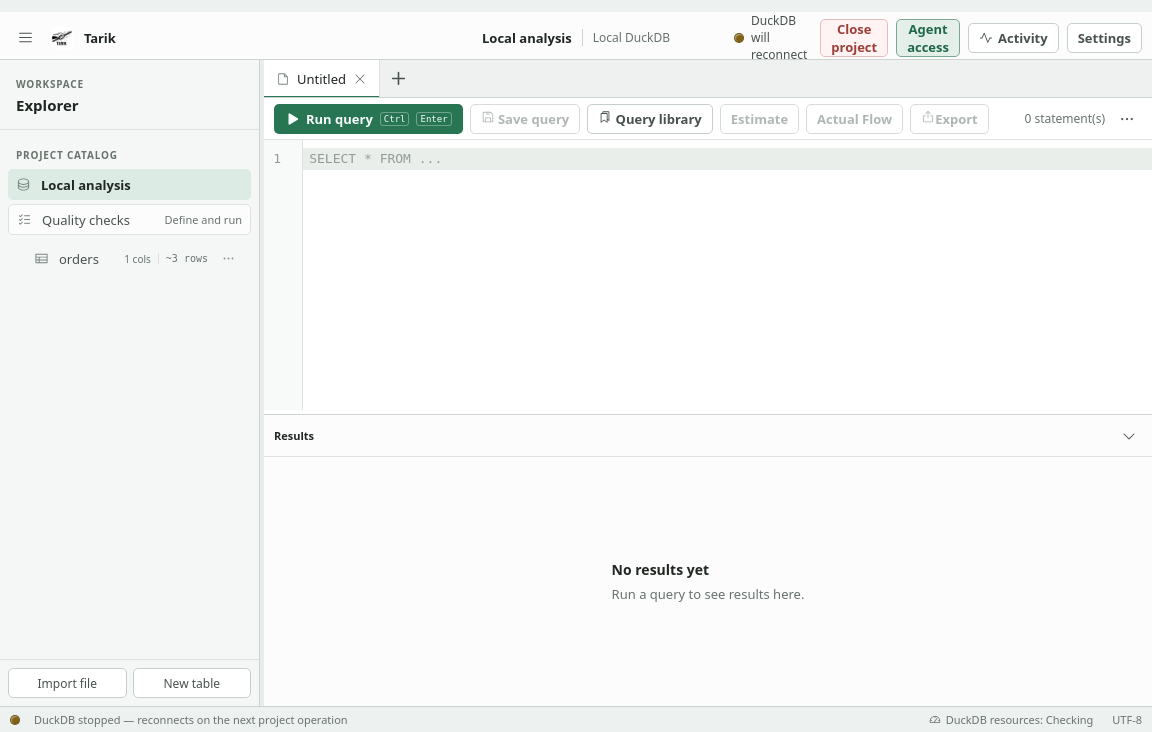
Test: Tarik workbench shell › opens Profile from supported Explorer menu and keyboard actions without scanning
The width and height of the screenshot is (1152, 732).
Step 1. Press the mouse on the button named "orders table actions" → (228, 258), box 215,246 -> 241,272
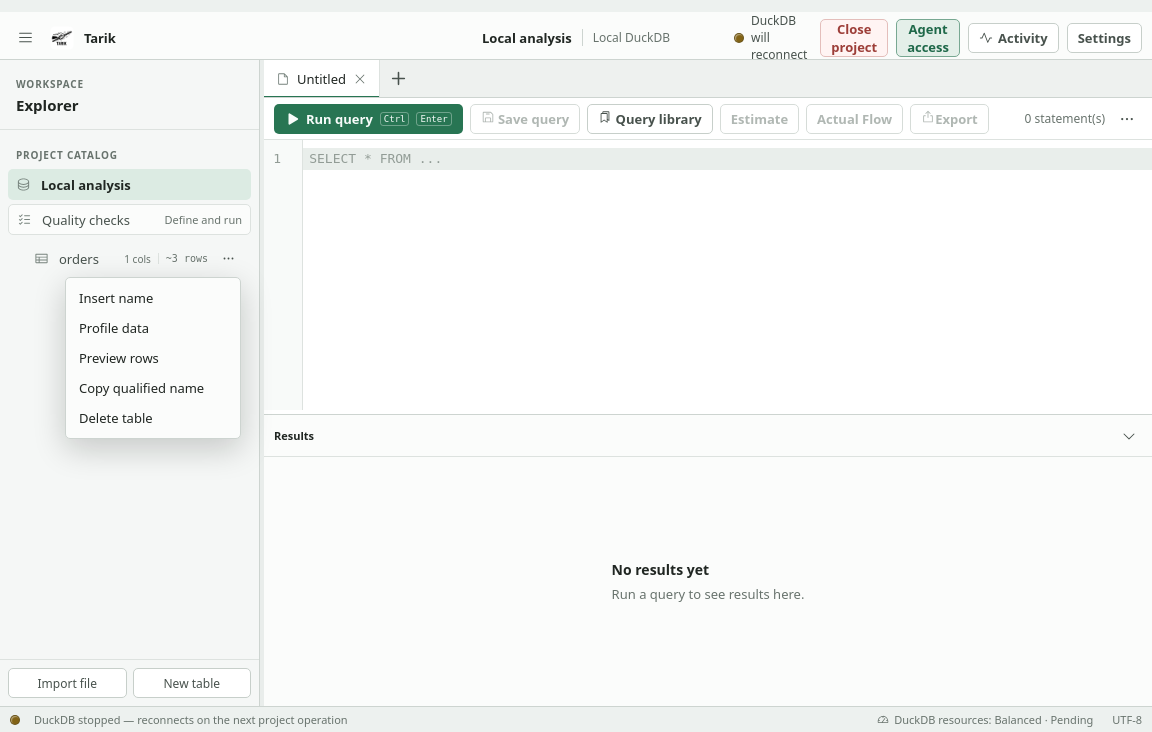
Step 2. Click the menu item "Profile data" → (114, 328), box 79,319 -> 149,337
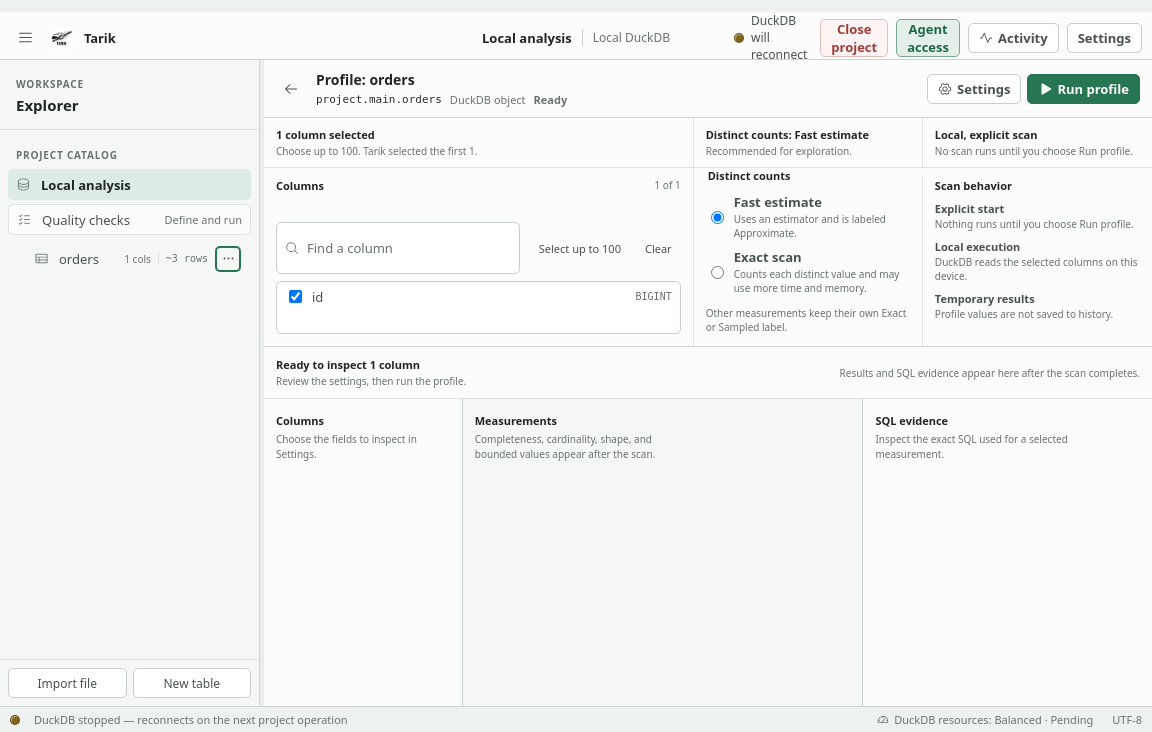
Expected: the element named "Profile orders" is shown
Step 3. Click the button named "Back to query editor" → (291, 88), box 276,74 -> 306,104
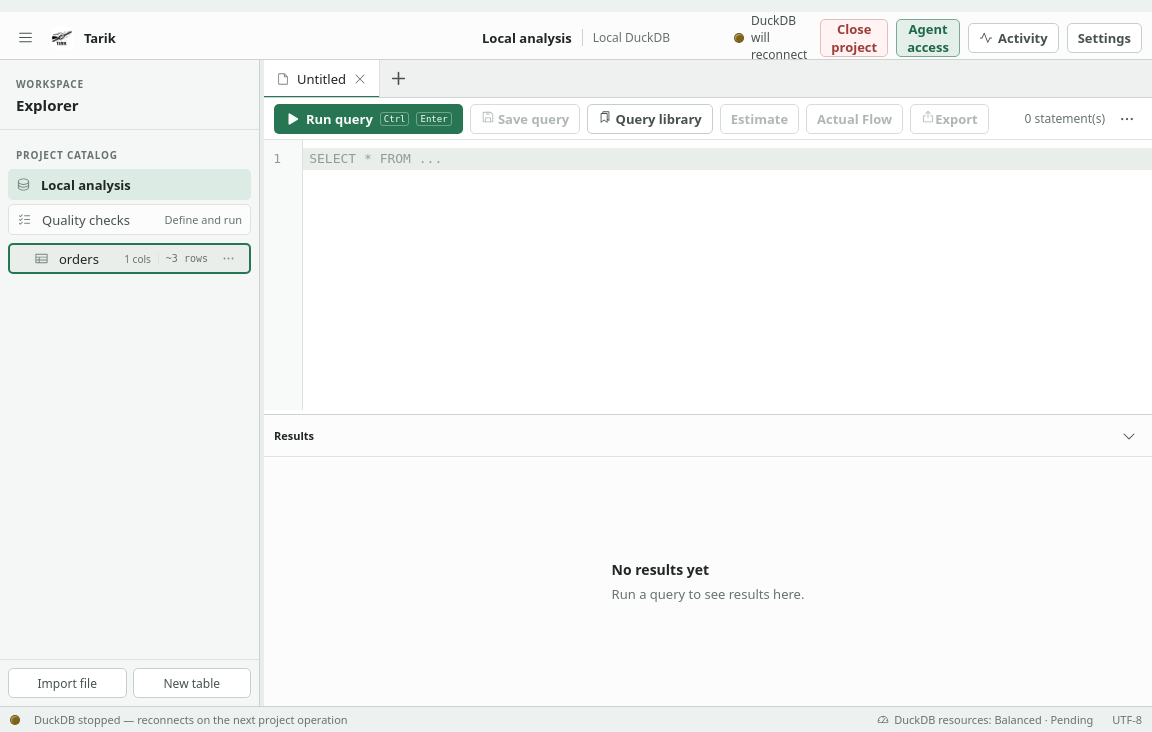
Step 4. Press p in the list item with aria-label "orders table", box 8,243 -> 251,274
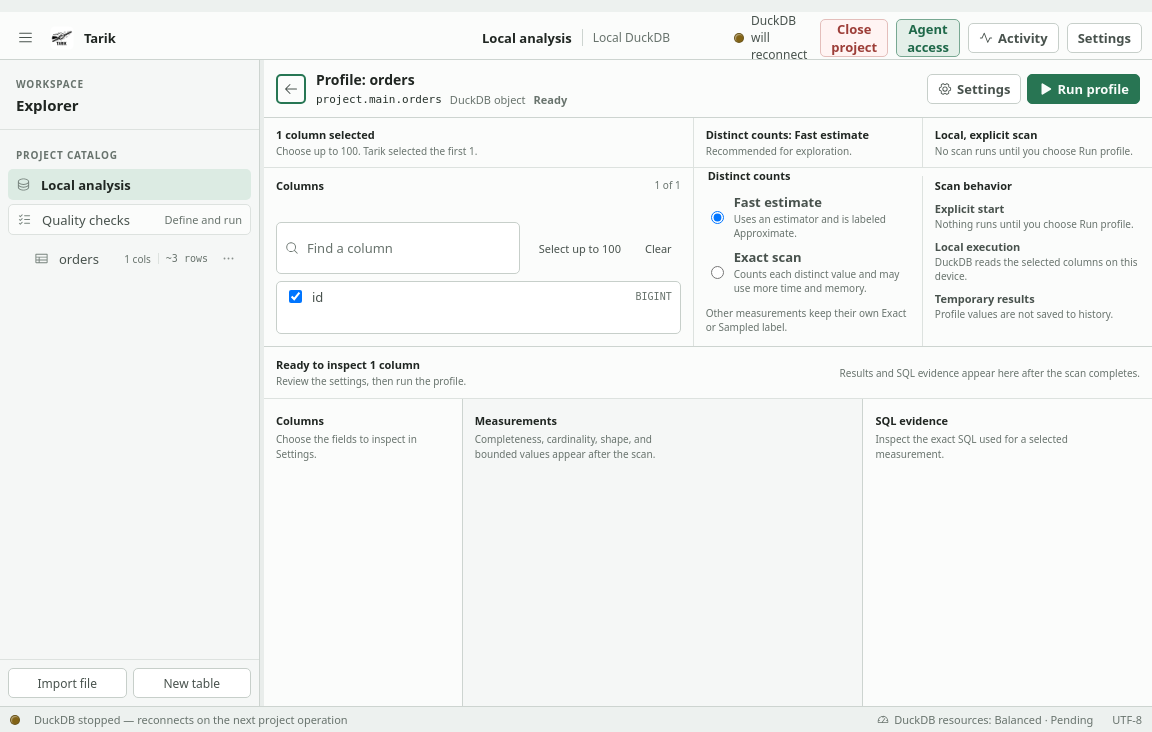
Expected: the element named "Profile orders" is shown
